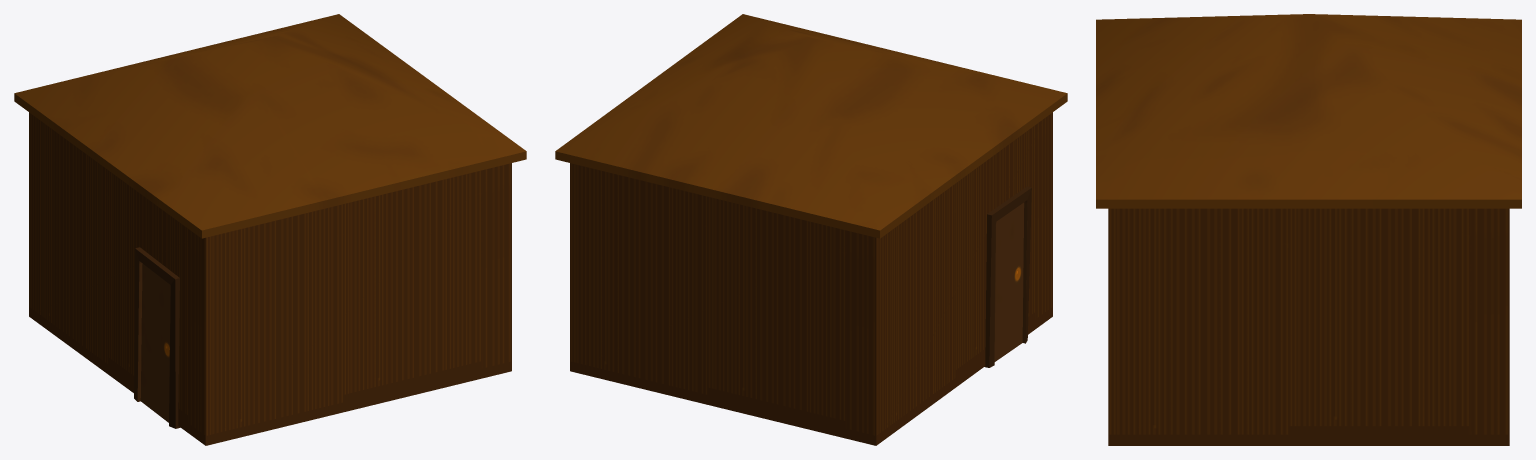
File: shed.fbx
3 renders of one model, left to right at view 1: azimuth 30°, elevation 25°; view 2: azimuth 150°, elevation 25°; view 3: azimuth 270°, elevation 25°, orthographic. The views are drawn at different scales.
Visible parts, largest first — view 1: bank3; view 2: bank3; view 3: bank3.
Part boxes in pixels (box(x1,y1,x2,y2)): bank3: box(14, 14, 526, 445); bank3: box(555, 14, 1067, 445); bank3: box(1096, 14, 1521, 445).
Size of the model in its own units: 15.92 by 14.44 by 15.92.
